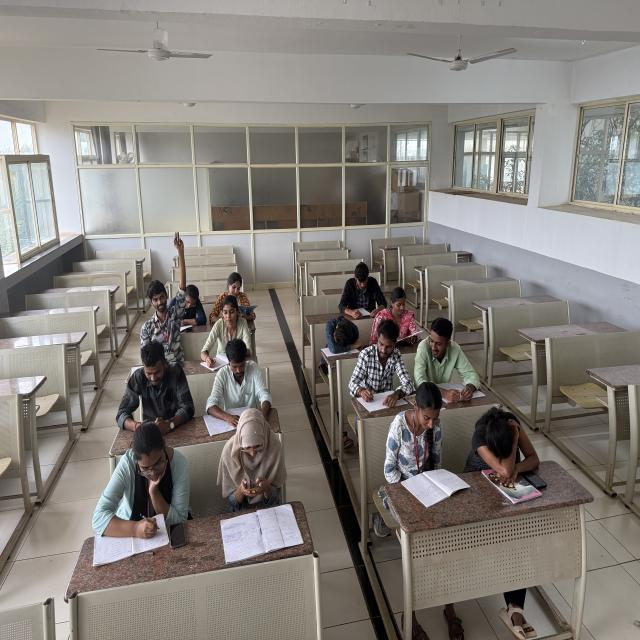Hand Rising: (133, 226, 187, 330)
Reading: (382, 378, 462, 512), (332, 258, 388, 315)
Sleeping: (462, 407, 553, 501), (317, 312, 361, 359)
Using Phone: (213, 406, 295, 505), (123, 336, 195, 427)
Writing: (81, 424, 196, 549), (357, 316, 411, 409), (199, 294, 254, 368)
